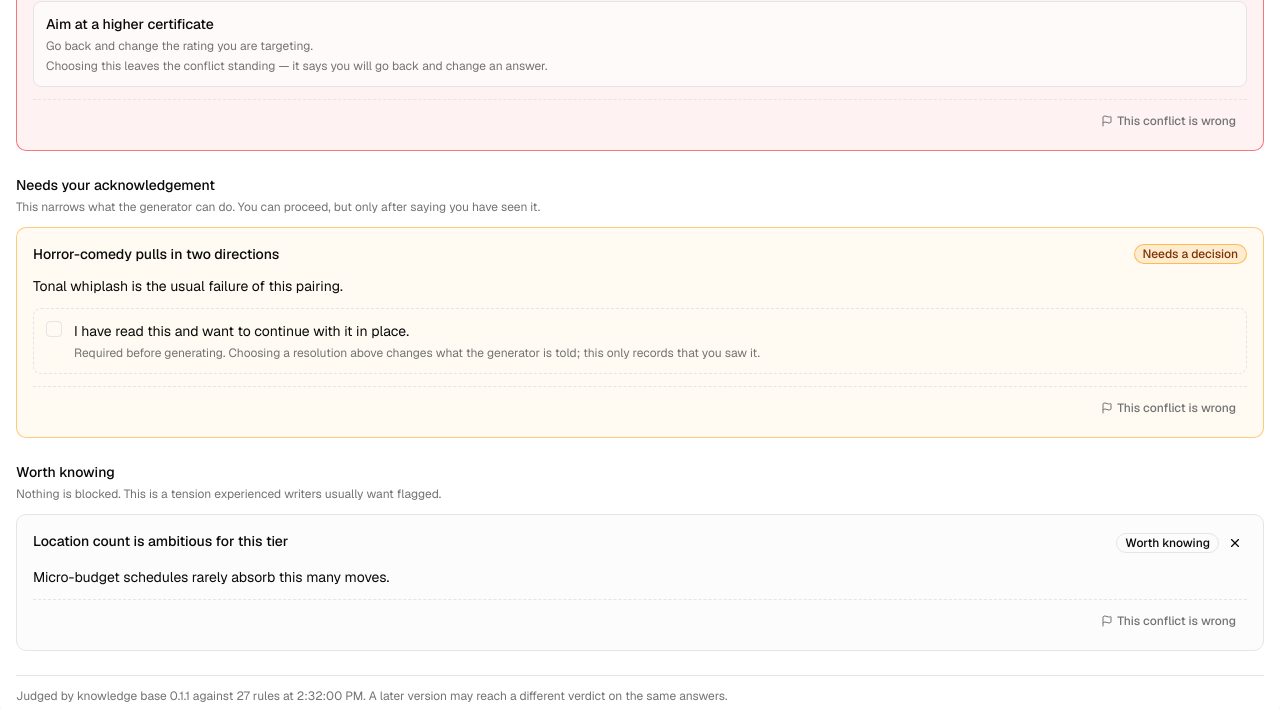
Scenario: ConflictPanel › lets an advisory be dismissed and nothing else
(page scrolled)
Click the button named "Dismiss".
click(1235, 543)  # box [1223,531,1247,555]
(page scrolled)
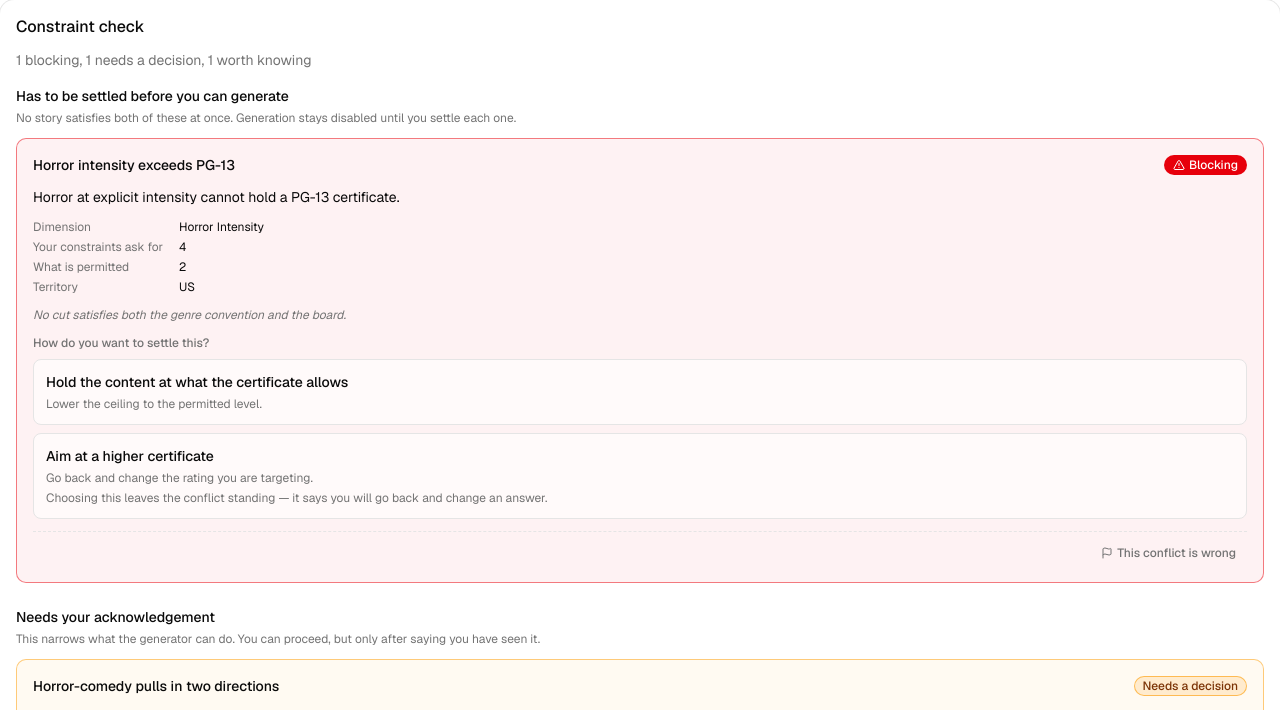
Now the heading "Location count is ambitious for this tier" is gone
